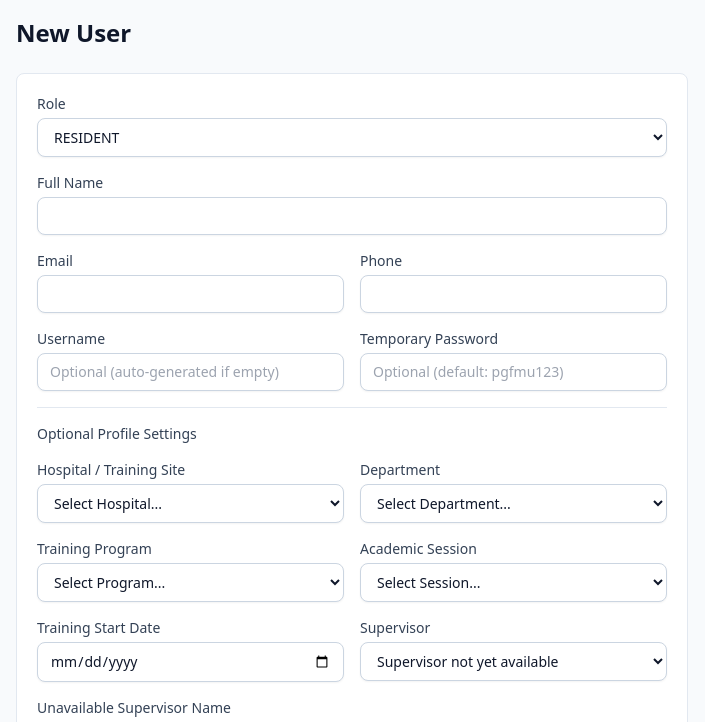
creates RESIDENT with generated credentials and the selected role
Check: the dropdown labelled "Role" shows "RESIDENT", box [37,118,667,157]
Type "  Test   Person  " into the field labelled "Full Name" at {"x": 352, "y": 216}, box [37,197,667,235]
(page scrolled)
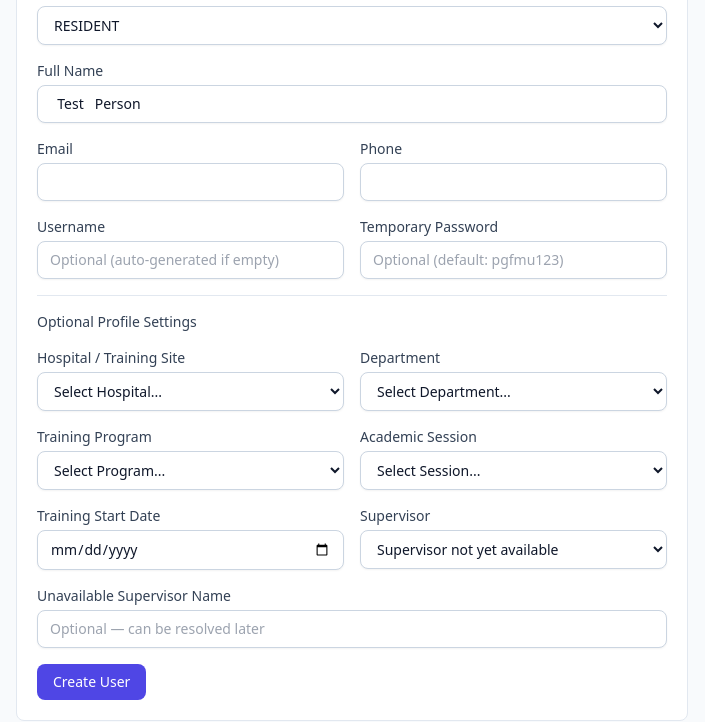
Click the button "Create User" at {"x": 92, "y": 682}, box [37,664,146,700]
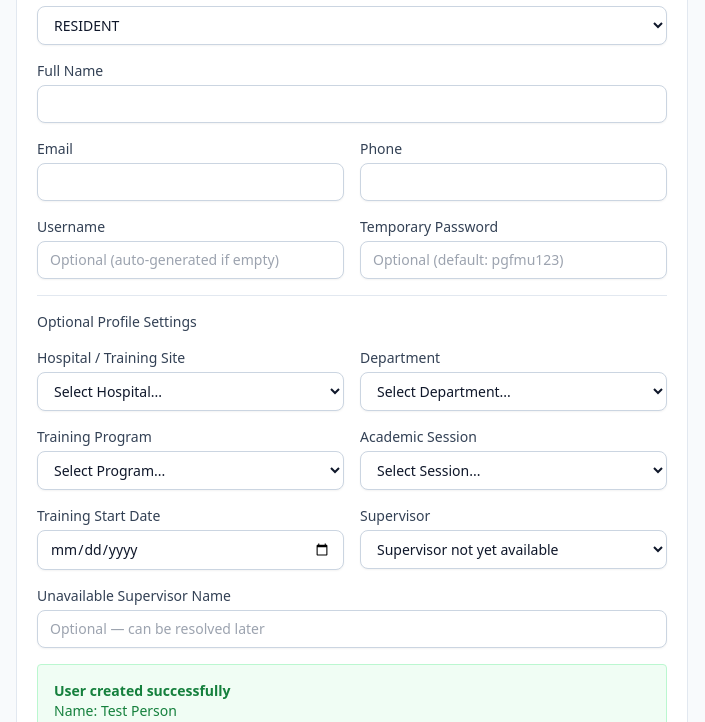
Check: the text "User created successfully" is shown, box [54,681,230,700]
Check: the field labelled "Full Name" is empty, box [37,85,667,123]
